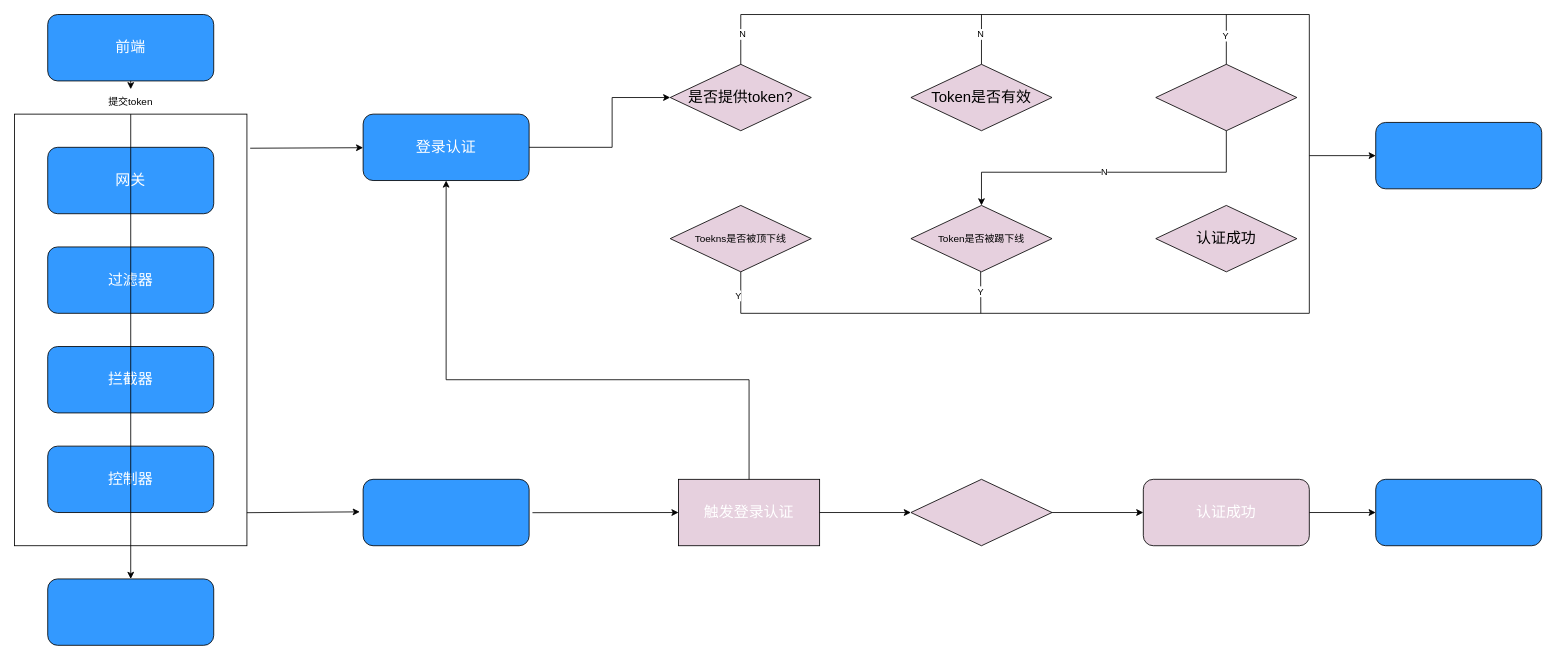
This 1556x660 diagram has some shape labels left out. Each missing label, with the centre of its shape:
Token是否过期: point 1226,97
服务: point 130,611
未登录异常: point 1458,155
权限不足异常: point 1458,512
权限认证: point 445,512
进行权限认证: point 981,512
